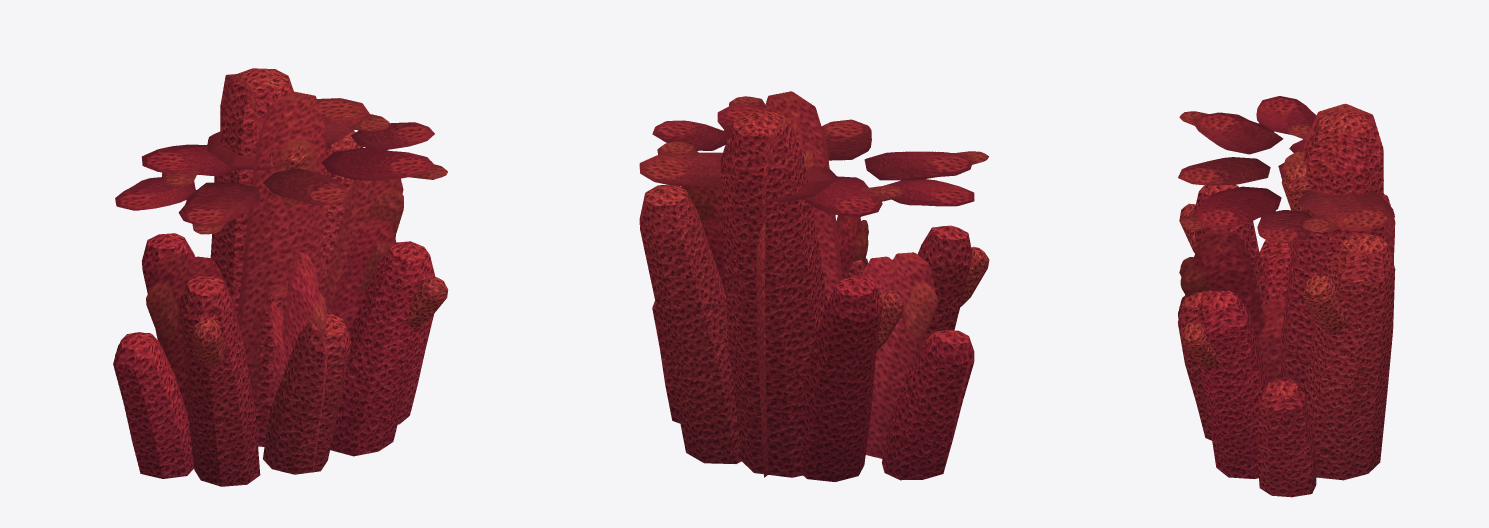
File: Coral-10-Pilares-Carmim.glb
3 renders of one model, left to right at view 1: azimuth 30°, elevation 25°; view 2: azimuth 150°, elevation 25°; view 3: azimuth 270°, elevation 25°, orthographic. The views are drawn at different scales.
Parts seen in each view (by area): view 1: Colonia, Coral-10-Pilares-Carmim impostor; view 2: Colonia, Coral-10-Pilares-Carmim impostor; view 3: Colonia, Coral-10-Pilares-Carmim impostor.
Boxes of the visible parts, x1=… form: Colonia: x1=115, y1=68, x2=448, y2=486; Coral-10-Pilares-Carmim impostor: x1=113, y1=74, x2=447, y2=473; Colonia: x1=639, y1=110, x2=989, y2=481; Coral-10-Pilares-Carmim impostor: x1=639, y1=91, x2=988, y2=477; Colonia: x1=1177, y1=112, x2=1395, y2=497; Coral-10-Pilares-Carmim impostor: x1=1178, y1=96, x2=1395, y2=382.
Size of what is drawn, in the model's own units: 1.27 by 1.27 by 1.27.
2 materials, 2 textured.
